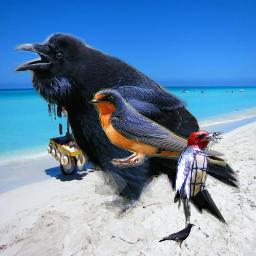Crow: (13, 32, 240, 228), (158, 223, 196, 250)
Swallow: (88, 87, 226, 170)
Woodpecker: (174, 130, 224, 228)
